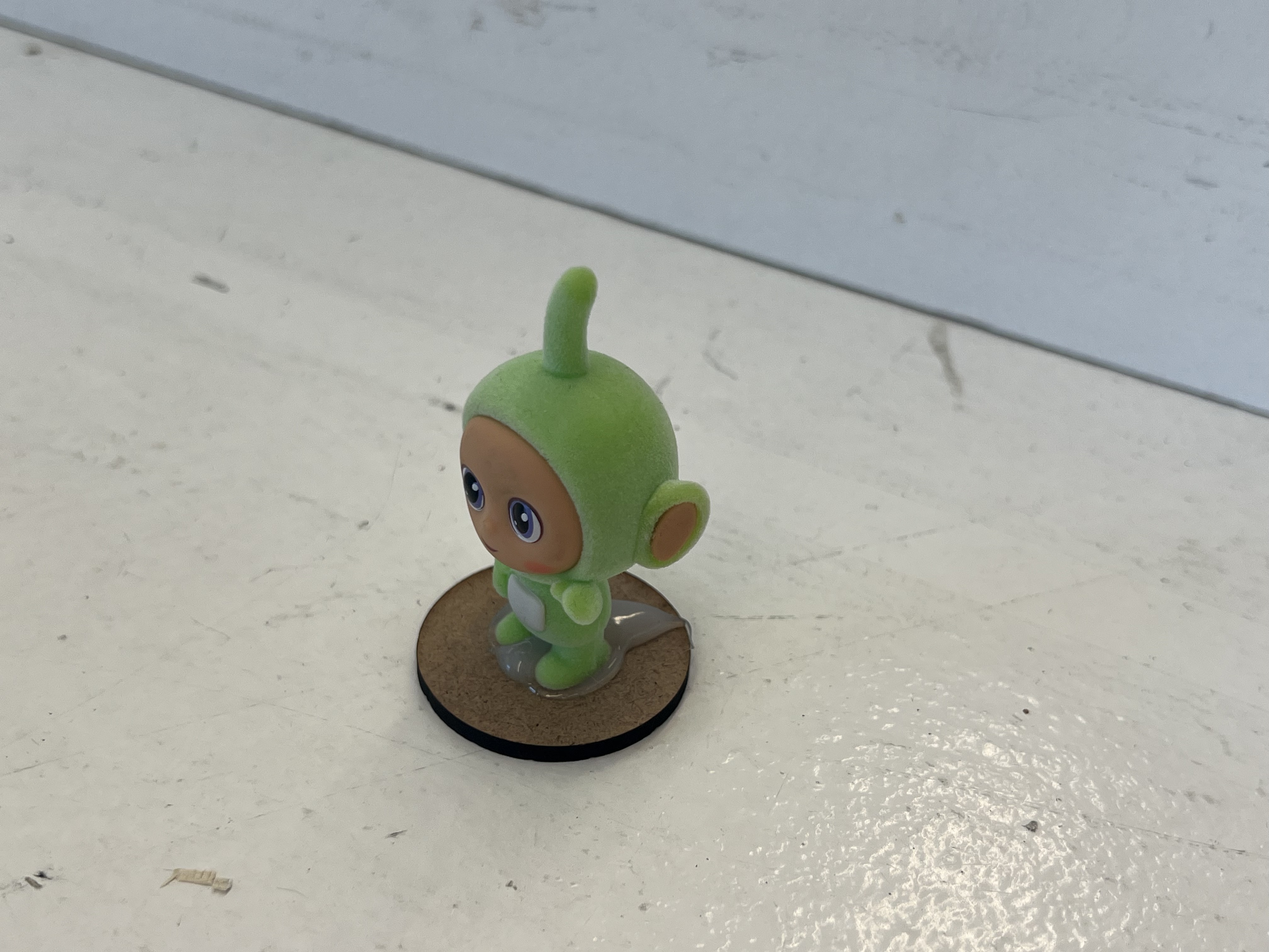teletubby: (460, 267, 709, 689)
